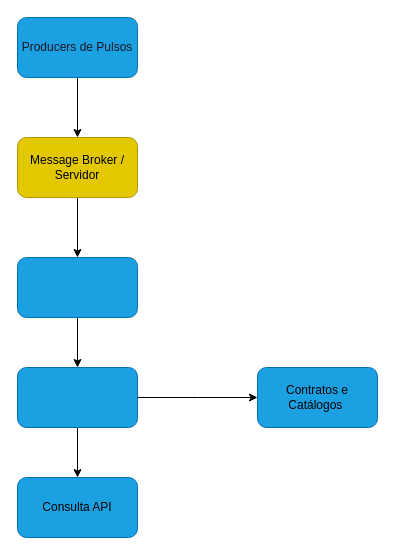
Image size: 395x555. Some labels were removed from this diagram. Here are the shapes that lost their labels. From the top down, the centre of each, then its label:
At pixel 77 287: "Ingestor".
At pixel 77 397: "Processador & Armazenador".
